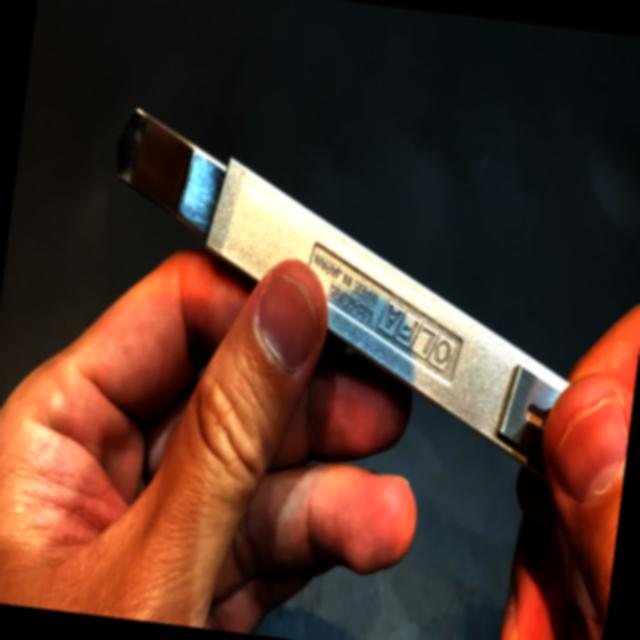cutter: (24, 80, 640, 606)
